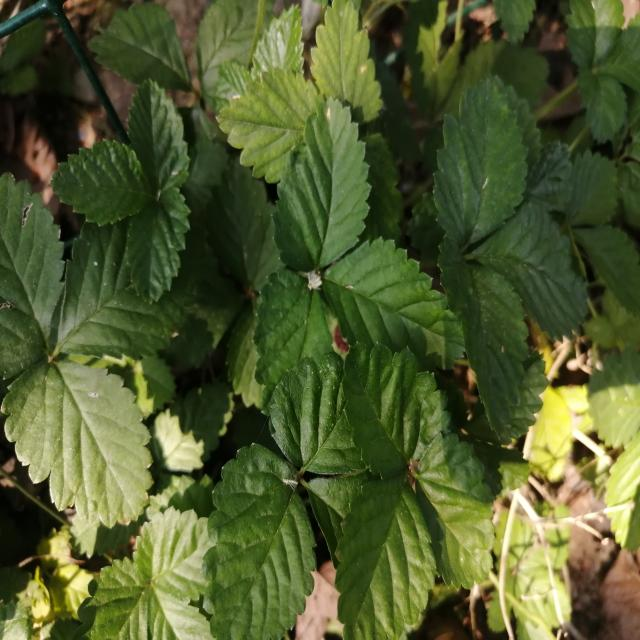Mock_strawberry: (158, 363, 502, 614), (258, 102, 494, 374), (429, 96, 564, 390)
